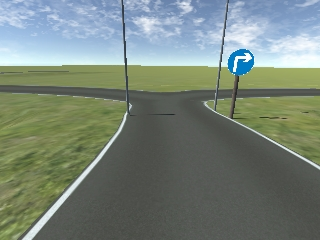right: (227, 49, 254, 76)
